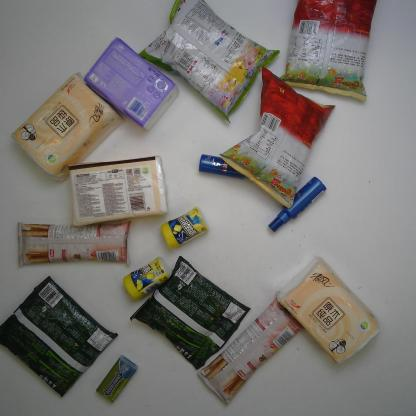Dessert: (195, 297, 306, 406), (16, 218, 133, 269)
Gum: (122, 255, 170, 303), (160, 205, 209, 251), (95, 354, 139, 404)
Instant Noodles: (0, 274, 120, 399), (128, 255, 253, 372)
Personal Hygiene: (266, 176, 328, 234), (198, 153, 247, 181)
Puffed Food: (138, 0, 282, 125), (218, 65, 336, 210), (280, 0, 377, 102)
Tissue: (10, 70, 125, 183), (277, 254, 383, 367), (82, 35, 181, 132), (67, 154, 170, 228)
